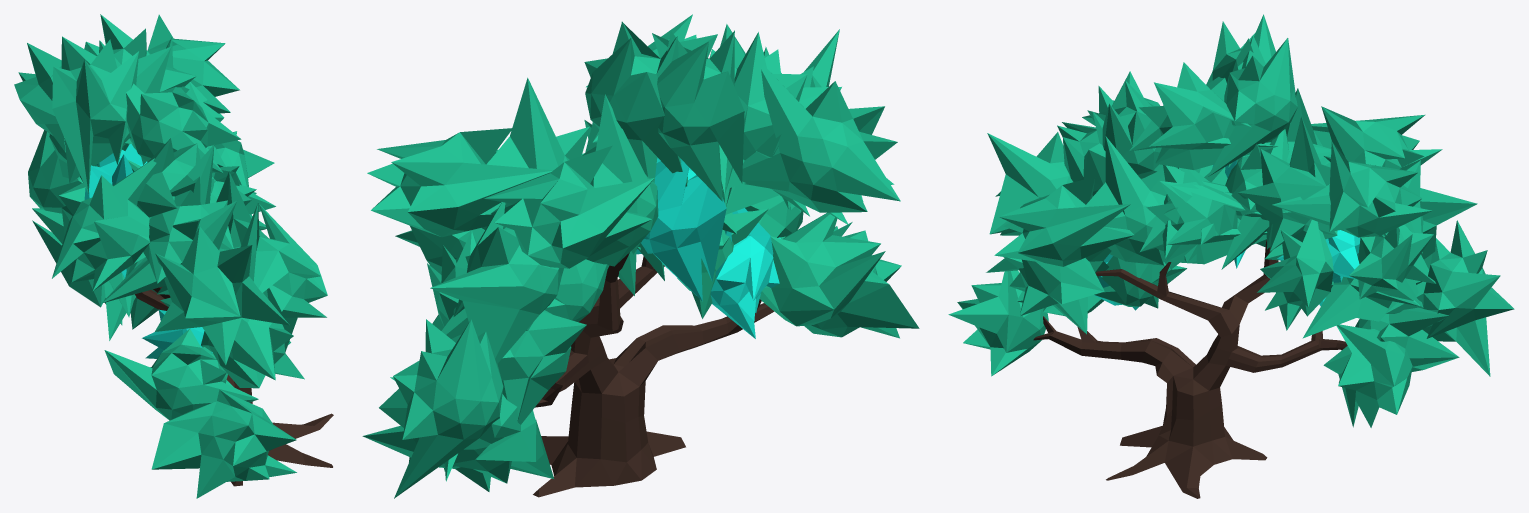
The model's file is low poly tree.fbx.
3 views of the same model, side by side, from view 1: azimuth 30°, elevation 25°; view 2: azimuth 150°, elevation 25°; view 3: azimuth 270°, elevation 25° (orthographic). The views are drawn at different scales.
Parts seen in each view (by area): view 1: Icosphere.024, Icosphere.012, Icosphere; view 2: Icosphere.024, Icosphere, Icosphere.012; view 3: Icosphere.024, Icosphere, Icosphere.012.
Part boxes in pixels (box(x1,y1,x2,y2)): Icosphere.024: box(14, 14, 327, 498); Icosphere.012: box(84, 144, 212, 358); Icosphere: box(135, 287, 333, 486); Icosphere.024: box(362, 14, 919, 498); Icosphere: box(533, 252, 774, 497); Icosphere.012: box(636, 157, 780, 338); Icosphere.024: box(948, 14, 1514, 427); Icosphere: box(1033, 240, 1347, 498); Icosphere.012: box(1094, 160, 1360, 310).
Size of the model in its own units: 1615 by 1997 by 2663.
